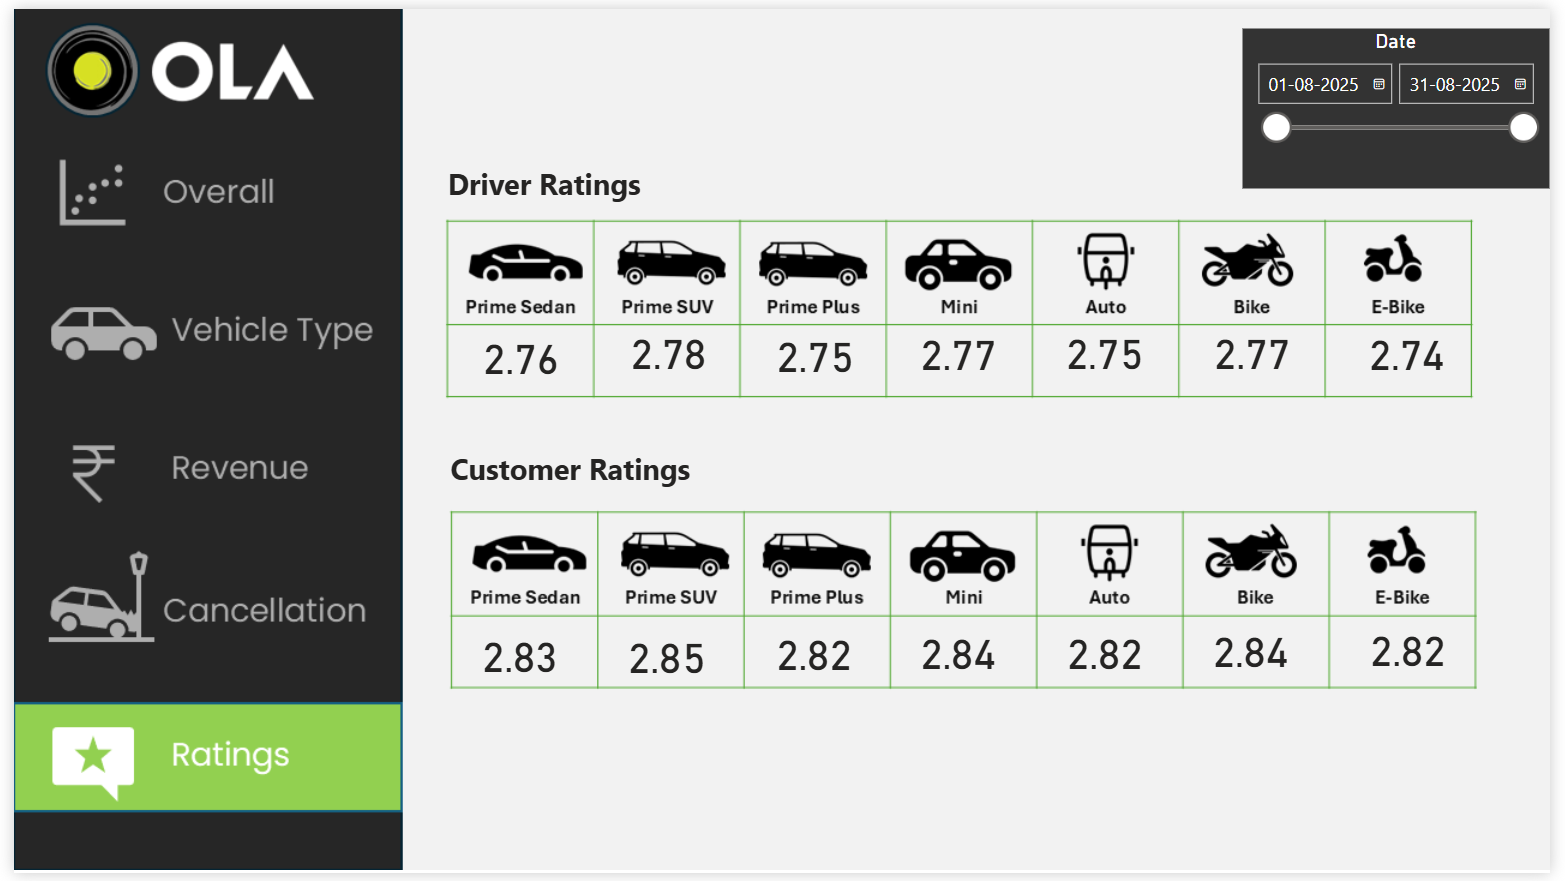

Layout of this report page (visuals, bound fields, positions):
{"tool":"powerbi","page":{"name":"Ratings","canvas":[1280,720],"ordinal":4},"visuals":[{"type":"actionButton","box":[0,224,320,96],"z":0},{"type":"actionButton","box":[0,336,320,96],"z":1000},{"type":"actionButton","box":[0,448,320,96],"z":2000},{"type":"actionButton","box":[0,576,320,96],"z":3000},{"type":"actionButton","box":[0,96,320,96],"z":4000},{"type":"card","fields":{"Values":["Avg(BookingData.Driver_Ratings)"]},"box":[370.8,272.3,101.9,46.8],"z":4001},{"type":"card","fields":{"Values":["Avg(BookingData.Customer_Rating)"]},"box":[616.1,519.8,100.5,44.9],"z":4003},{"type":"card","fields":{"Values":["Avg(BookingData.Customer_Rating)"]},"box":[370.1,519.8,102.7,47.1],"z":4004},{"type":"card","fields":{"Values":["Avg(BookingData.Customer_Rating)"]},"box":[494.2,522,100.5,44.9],"z":4006},{"type":"card","fields":{"Values":["Avg(BookingData.Driver_Ratings)"]},"box":[857.9,267.4,102.7,47.1],"z":4007},{"type":"card","fields":{"Values":["Avg(BookingData.Driver_Ratings)"]},"box":[735.9,269.6,100.5,44.9],"z":4008},{"type":"card","fields":{"Values":["Avg(BookingData.Driver_Ratings)"]},"box":[616.1,269.6,102.7,47.1],"z":4009},{"type":"card","fields":{"Values":["Avg(BookingData.Customer_Rating)"]},"box":[1110.3,515.6,102.7,47.1],"z":4010},{"type":"card","fields":{"Values":["Avg(BookingData.Customer_Rating)"]},"box":[979.8,517.7,100.5,44.9],"z":4011},{"type":"card","fields":{"Values":["Avg(BookingData.Customer_Rating)"]},"box":[857.9,517.7,102.7,47.1],"z":4013},{"type":"card","fields":{"Values":["Avg(BookingData.Customer_Rating)"]},"box":[735.9,517.7,100.5,47.1],"z":4014},{"type":"card","fields":{"Values":["Avg(BookingData.Driver_Ratings)"]},"box":[494.2,267.4,102.7,47.1],"z":4015},{"type":"card","fields":{"Values":["Avg(BookingData.Driver_Ratings)"]},"box":[1110.3,269.6,100.5,44.9],"z":4016},{"type":"card","fields":{"Values":["Avg(BookingData.Driver_Ratings)"]},"box":[979.8,267.4,102.7,47.1],"z":4017},{"type":"textbox","box":[337.4,123.6,208.8,51.8],"z":4018},{"type":"textbox","box":[359.1,360.8,280.6,53.4],"z":4019},{"type":"slicer","title":"Date","fields":{"Values":["BookingData.Date"]},"box":[1023.9,16.7,255.6,133.6],"z":4020}]}

Visuals, with their boxes in screenshot pixels (x1, y1, x2, y2), scaled from the page's 1280x720 canvas onto the 1565x881 screenshot:
actionButton: left=0, top=274, right=391, bottom=392
actionButton: left=0, top=411, right=391, bottom=529
actionButton: left=0, top=548, right=391, bottom=666
actionButton: left=0, top=705, right=391, bottom=822
actionButton: left=0, top=117, right=391, bottom=235
card - Avg(BookingData.Driver_Ratings): left=453, top=333, right=578, bottom=390
card - Avg(BookingData.Customer_Rating): left=753, top=636, right=876, bottom=691
card - Avg(BookingData.Customer_Rating): left=453, top=636, right=578, bottom=694
card - Avg(BookingData.Customer_Rating): left=604, top=639, right=727, bottom=694
card - Avg(BookingData.Driver_Ratings): left=1049, top=327, right=1174, bottom=385
card - Avg(BookingData.Driver_Ratings): left=900, top=330, right=1023, bottom=385
card - Avg(BookingData.Driver_Ratings): left=753, top=330, right=879, bottom=388
card - Avg(BookingData.Customer_Rating): left=1358, top=631, right=1483, bottom=689
card - Avg(BookingData.Customer_Rating): left=1198, top=633, right=1321, bottom=688
card - Avg(BookingData.Customer_Rating): left=1049, top=633, right=1174, bottom=691
card - Avg(BookingData.Customer_Rating): left=900, top=633, right=1023, bottom=691
card - Avg(BookingData.Driver_Ratings): left=604, top=327, right=730, bottom=385
card - Avg(BookingData.Driver_Ratings): left=1358, top=330, right=1480, bottom=385
card - Avg(BookingData.Driver_Ratings): left=1198, top=327, right=1324, bottom=385
textbox: left=413, top=151, right=668, bottom=215
textbox: left=439, top=441, right=782, bottom=507
"Date" slicer: left=1252, top=20, right=1564, bottom=184
